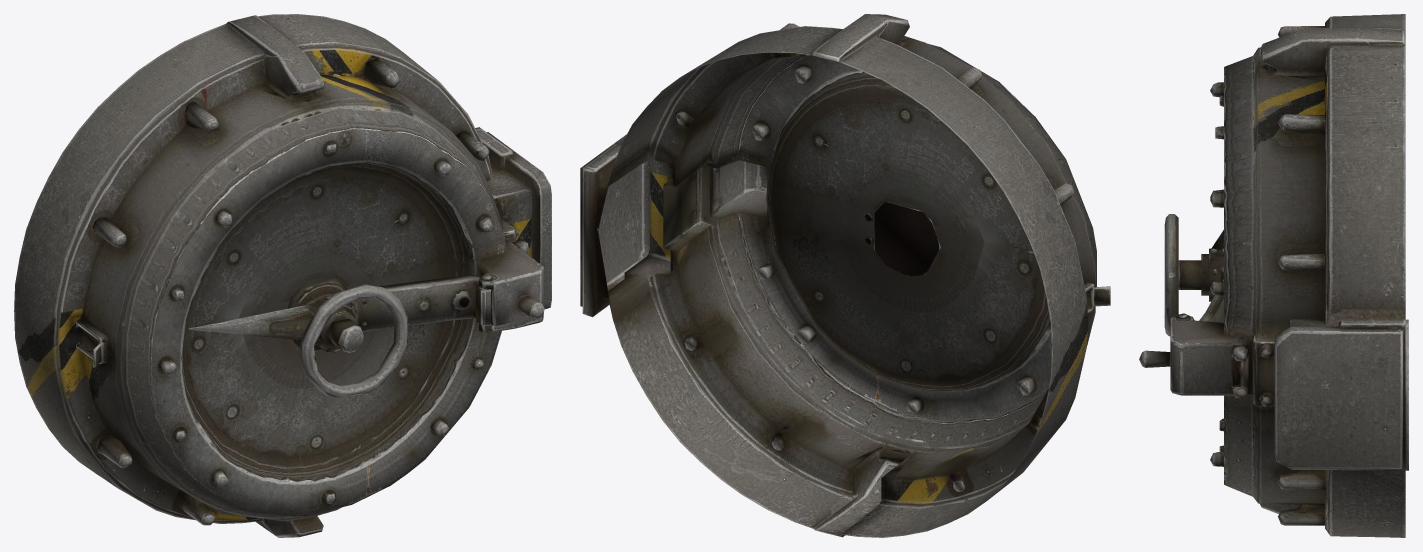
The model's file is vault_door.glb.
3 renders of one model, left to right at view 1: azimuth 30°, elevation 25°; view 2: azimuth 150°, elevation 25°; view 3: azimuth 270°, elevation 25°, orthographic.
Visible parts, largest first — view 1: TesanaFacingY180; view 2: TesanaFacingY180; view 3: TesanaFacingY180.
Part boxes in pixels (x1,y1,x2,y2): TesanaFacingY180: (14,14,551,537); TesanaFacingY180: (580,14,1110,537); TesanaFacingY180: (1139,14,1408,537).
Size of the model in its own units: 1.23 by 1.2 by 0.6036.
Materials: 1 (1 with a texture image).
